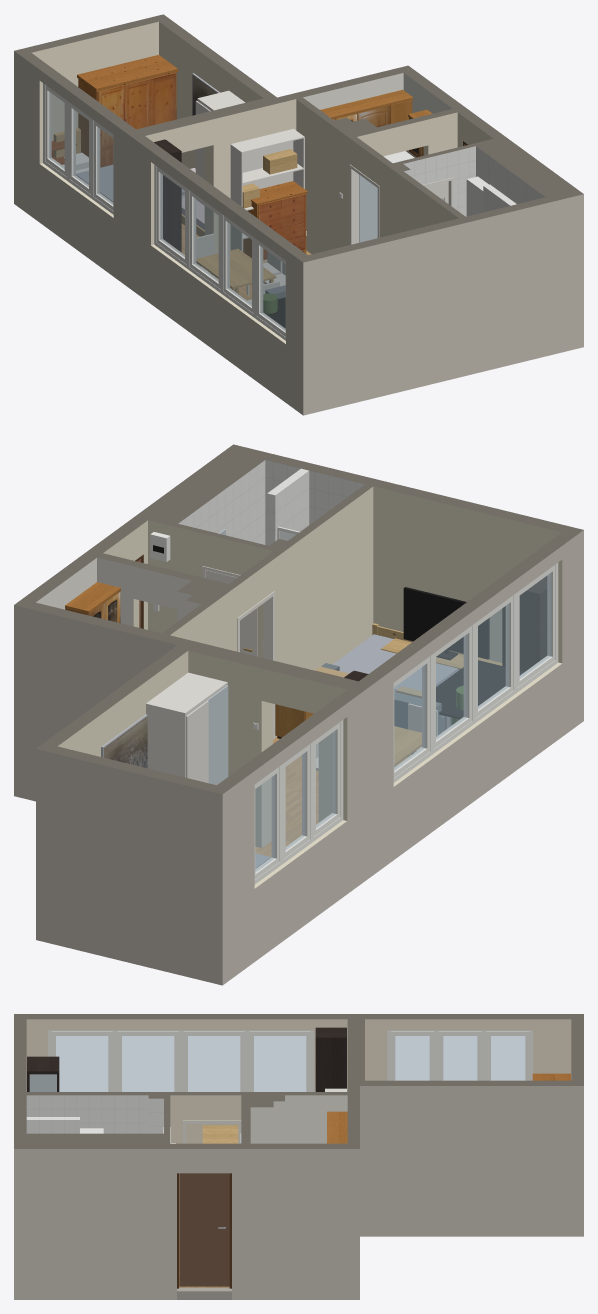
The picture shows the model from 3 angles, top to bottom: view 1: azimuth 30°, elevation 25°; view 2: azimuth 150°, elevation 25°; view 3: azimuth 270°, elevation 25°; orthographic projection. The views are drawn at different scales.
Parts seen in each view (by area): view 1: Ściany, Okno, duży pokój, Szafa trzydrzwiowa, Okno, mały pokój, Regał, Komoda, Szafki górne, Szafa przy mniejszym pokoju, Stół, Łóżko, Lustro, Krzesła (+4 smaller); view 2: Ściany, Okno, duży pokój, Okno, mały pokój, Szafa przesuwna, Telewizor, Szafa z lustrem, Zabudowa łazienki, Łóżko, Biurko, Podłoga, pokoje, Obraz, Szafka nad lodówką (+5 smaller); view 3: Ściany, Okno, duży pokój, Okno, mały pokój, Drzwi wejściowe, Szafa przy mniejszym pokoju, Szafa z lustrem, Zabudowa łazienki, Strop, Stół, Szafki górne.
Boxes of the visible parts, x1,y1,x2,y2 form: Ściany: (14, 14, 583, 415); Okno, duży pokój: (154, 165, 285, 340); Szafa trzydrzwiowa: (77, 55, 178, 167); Okno, mały pokój: (43, 83, 113, 214); Regał: (230, 128, 304, 261); Komoda: (243, 181, 307, 260); Szafki górne: (320, 89, 413, 127); Szafa przy mniejszym pokoju: (154, 139, 181, 252); Stół: (196, 249, 276, 293); Łóżko: (53, 128, 184, 201); Lustro: (359, 174, 377, 242); Krzesła: (196, 233, 285, 303); Ściany: (14, 444, 583, 985); Okno, duży pokój: (393, 562, 558, 782); Okno, mały pokój: (254, 720, 343, 884); Szafa przesuwna: (146, 672, 228, 785); Telewizor: (403, 587, 489, 660); Szafa z lustrem: (502, 576, 547, 671); Zabudowa łazienki: (267, 468, 309, 545); Łóżko: (333, 623, 463, 690); Biurko: (436, 660, 524, 729); Podłoga, pokoje: (255, 736, 407, 857); Obraz: (101, 714, 147, 768); Szafka nad lodówką: (65, 582, 120, 622); Ściany: (14, 1014, 583, 1299); Okno, duży pokój: (48, 1030, 314, 1091); Okno, mały pokój: (387, 1030, 533, 1080); Drzwi wejściowe: (177, 1173, 231, 1288); Szafa przy mniejszym pokoju: (315, 1027, 346, 1091); Szafa z lustrem: (27, 1056, 59, 1091); Zabudowa łazienki: (26, 1117, 79, 1133); Strop: (177, 1287, 231, 1299); Stół: (202, 1125, 238, 1143); Szafki górne: (327, 1111, 347, 1143).
Bounding box in the file's own units: 5.11 × 2.66 × 9.11.
60 materials, 25 textured.
